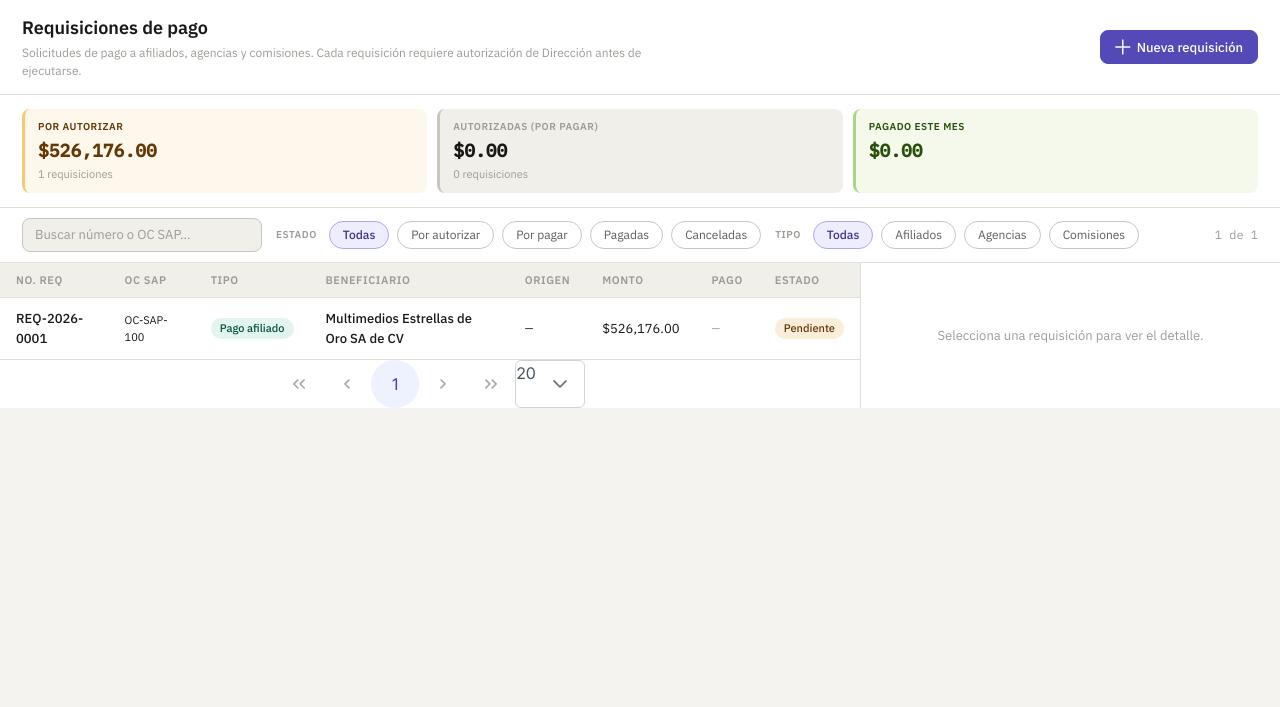
Test case: RequisicionesPage › sin factura ligada (campo opcional): no aparece ningún badge de orden de servicio
Click the text "REQ-2026-0001": (54, 328) [0,298,109,360]
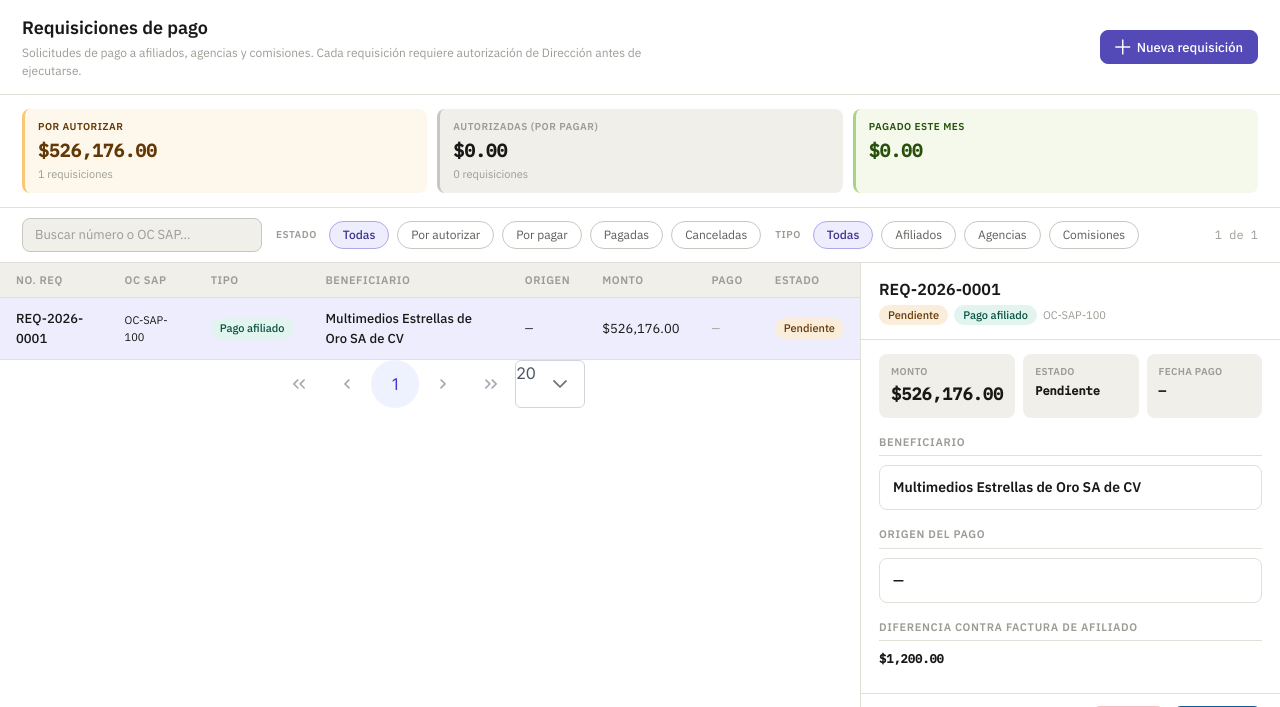
Check: the text "Origen del pago" is shown, box [879,526,1262,548]
